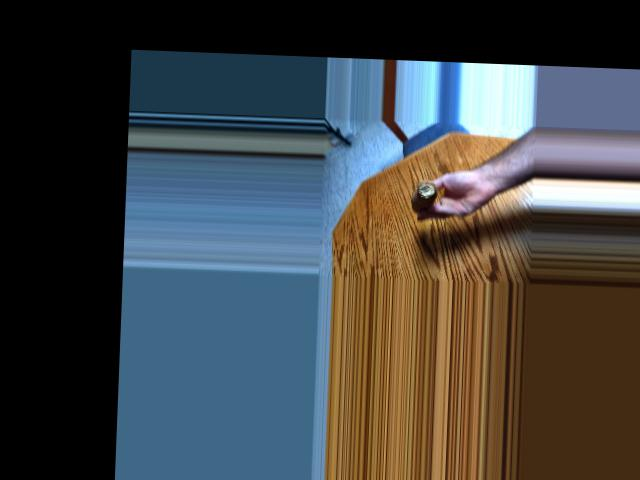sweet_potato: (406, 175, 446, 215)
